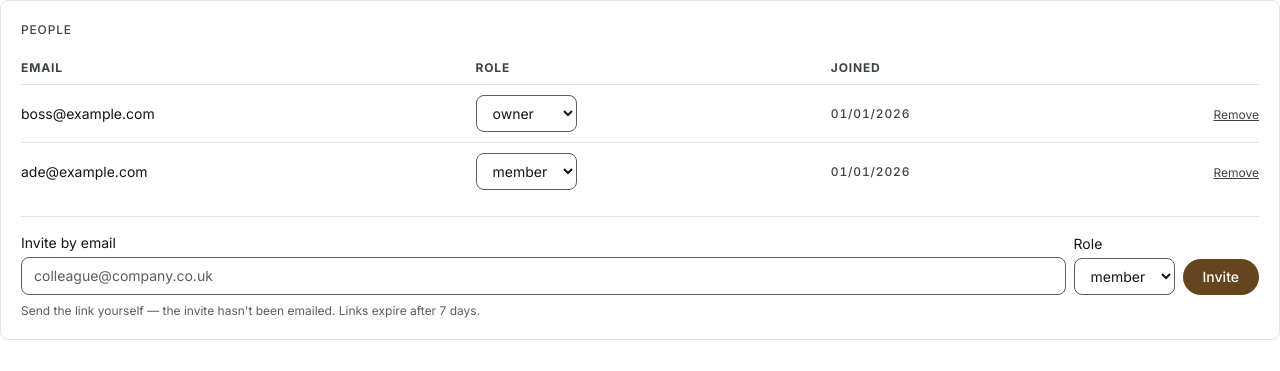
removing somebody who looked after facts › does not present the release as an error
Click the button "Remove" in the row of "ade@example.com" at coordinates (1236, 173), box [1214,165,1259,181]
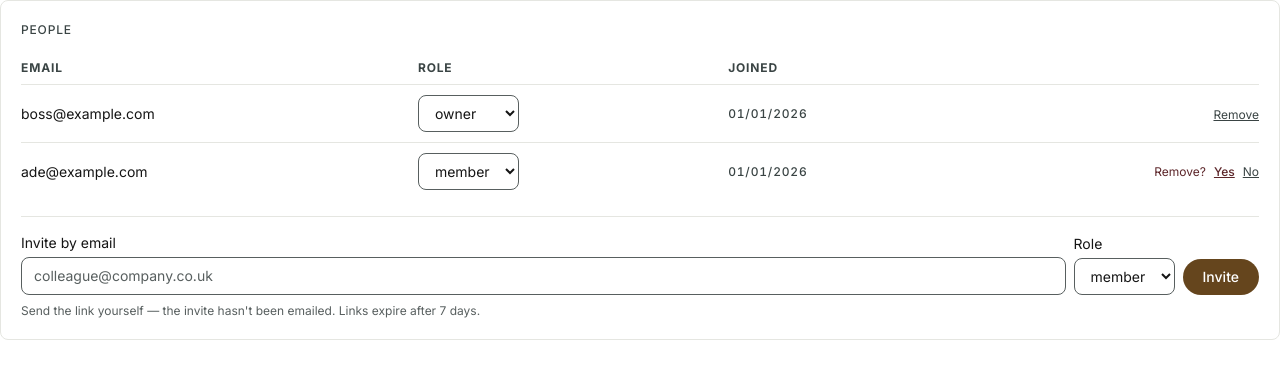
Click the button "Yes" at coordinates (1224, 172), box [1214,164,1235,180]
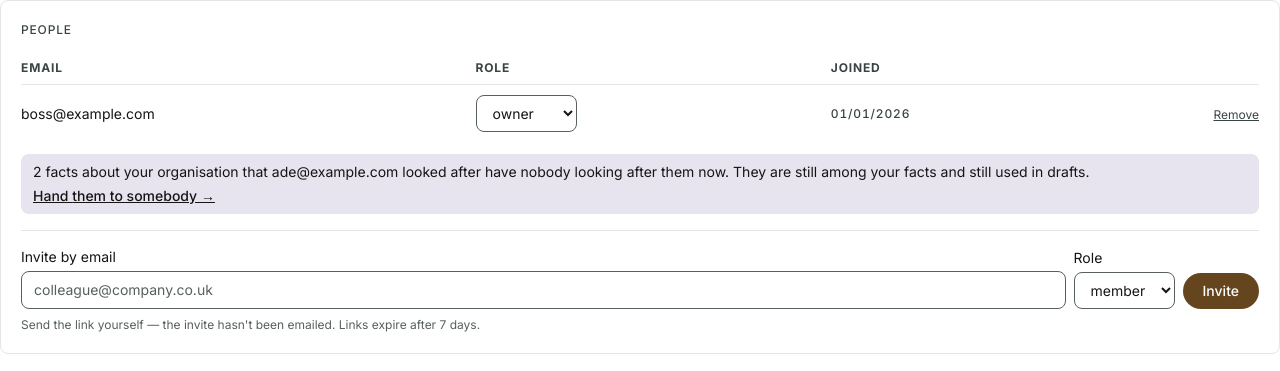
Expected: the text "2 facts about your organisation" shows "still among your facts", [795,163,1090,180]
